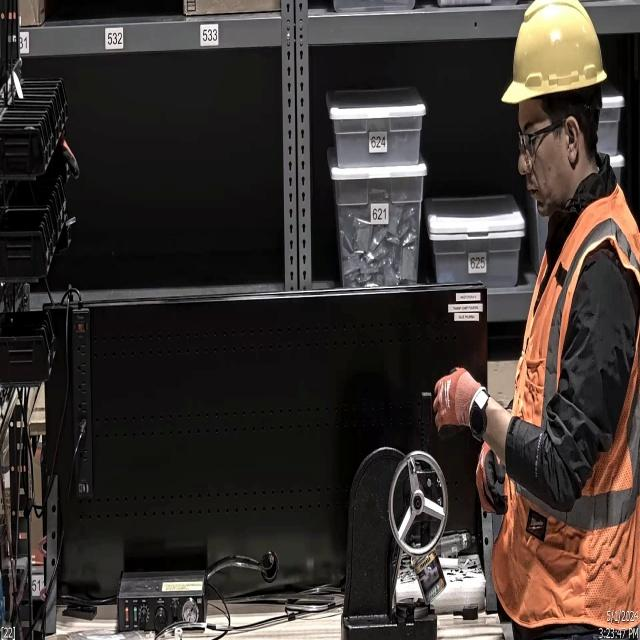gloves: (432, 362, 472, 438)
